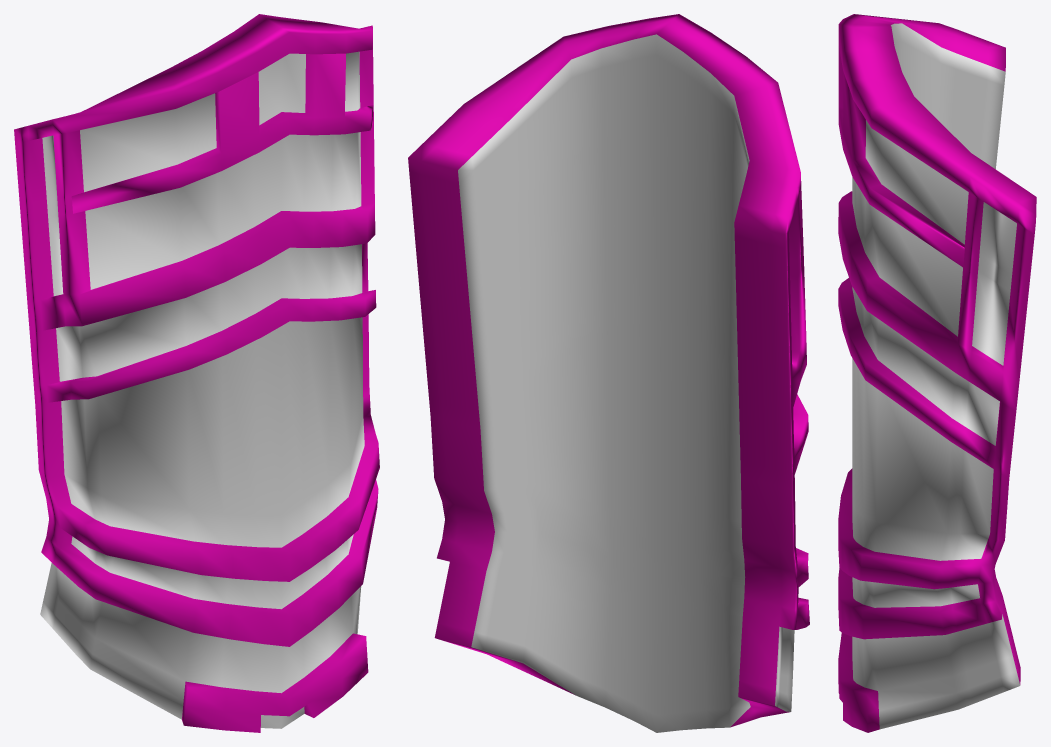
The model's file is avambrazo.fbx.
3 renders of one model, left to right at view 1: azimuth 30°, elevation 25°; view 2: azimuth 150°, elevation 25°; view 3: azimuth 270°, elevation 25°, orthographic. The views are drawn at different scales.
Visible parts, largest first — view 1: Cube; view 2: Cube; view 3: Cube.
Part boxes in pixels (x1,y1,x2,y2): Cube: (14,14,379,732); Cube: (408,14,809,732); Cube: (838,14,1036,732).
Bounding box in the file's own units: 15.69 × 29.01 × 7.59.
